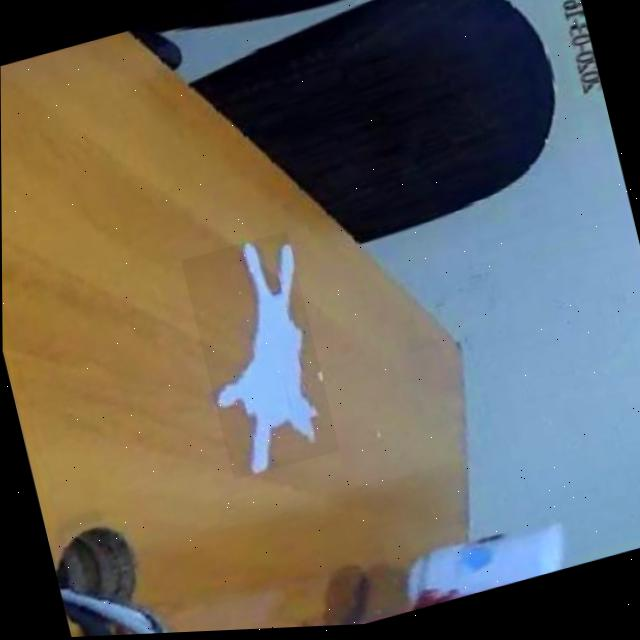spillage: (212, 244, 309, 477)
